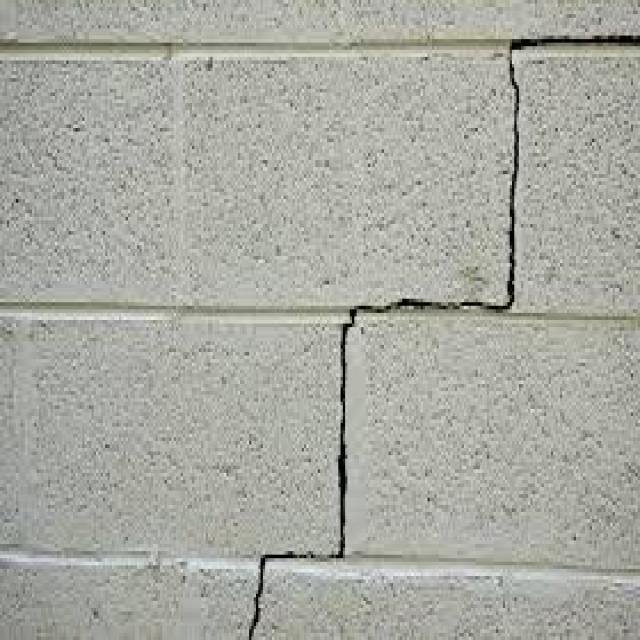Crack: (242, 29, 638, 636)
